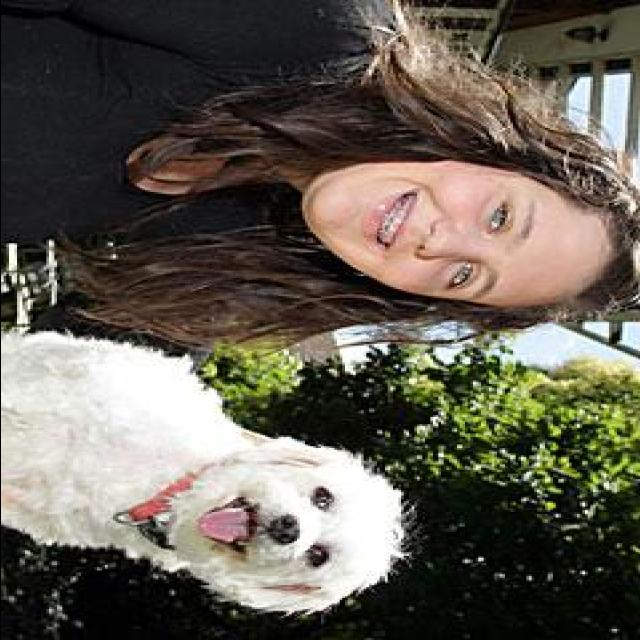maltese_dog: (3, 334, 405, 612)
